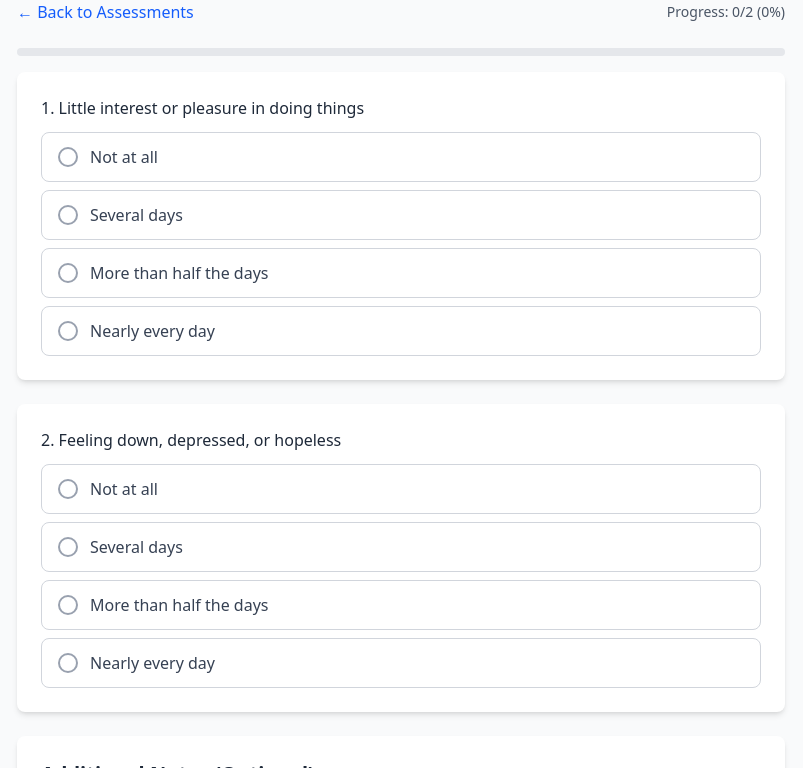
AssessmentForm › Draft Functionality › Save Draft Button › should enable Save Draft when at least one question answered
Note: Answer only first question
Click the 1st radio button labelled "Not at all" at (124, 157), box [41,132,761,182]
(page scrolled)
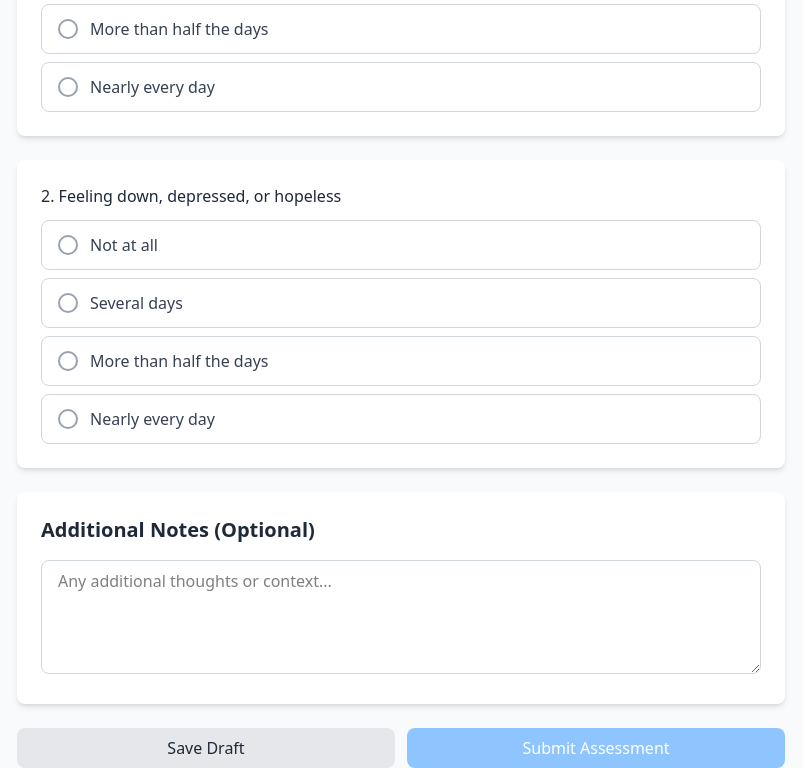
Check: the button "Save Draft" is enabled, box [17,728,395,767]
